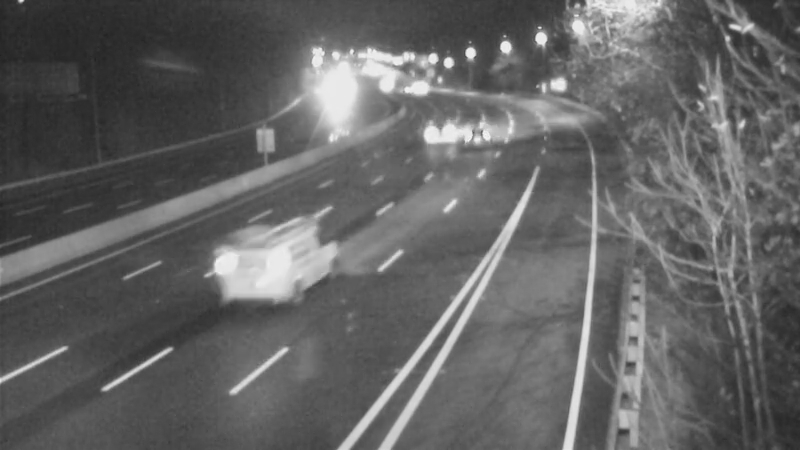vehicle: (216, 233, 296, 313), (392, 63, 442, 113), (380, 63, 430, 113), (412, 109, 462, 159), (453, 109, 503, 159)
